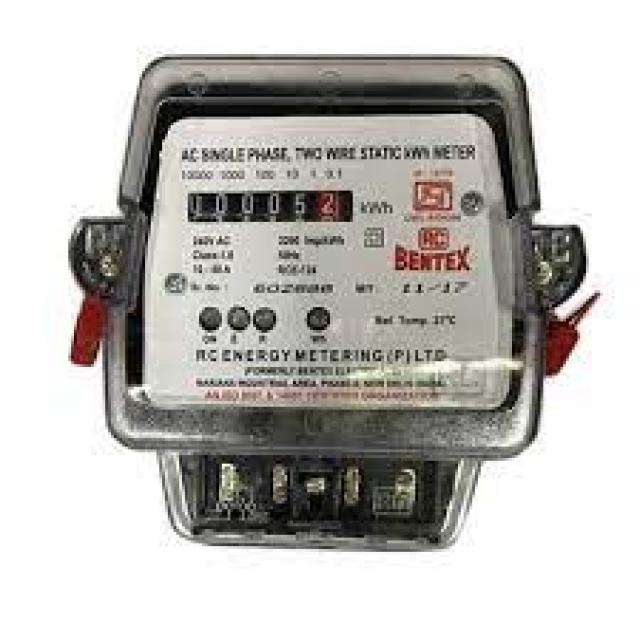0: (266, 192, 284, 215), (239, 194, 258, 214), (213, 193, 231, 214)
2: (316, 192, 340, 214)
5: (292, 192, 310, 216)
analog meter: (184, 192, 368, 223)
